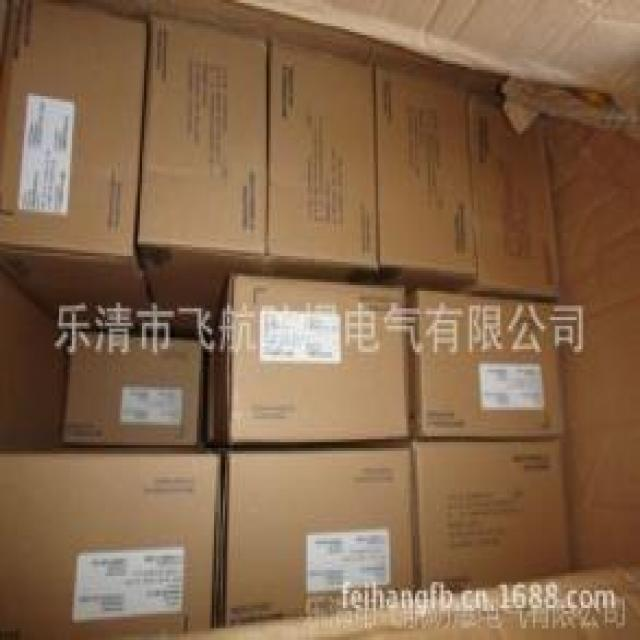box: (0, 0, 149, 329), (0, 445, 223, 640), (135, 2, 271, 302), (220, 441, 416, 638), (258, 29, 378, 291), (218, 276, 408, 439), (409, 432, 569, 598), (404, 285, 570, 438), (372, 50, 476, 292), (67, 322, 213, 450), (475, 92, 553, 292)
